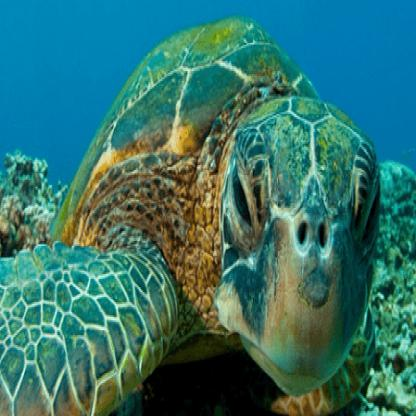turtle: (210, 87, 384, 402)
